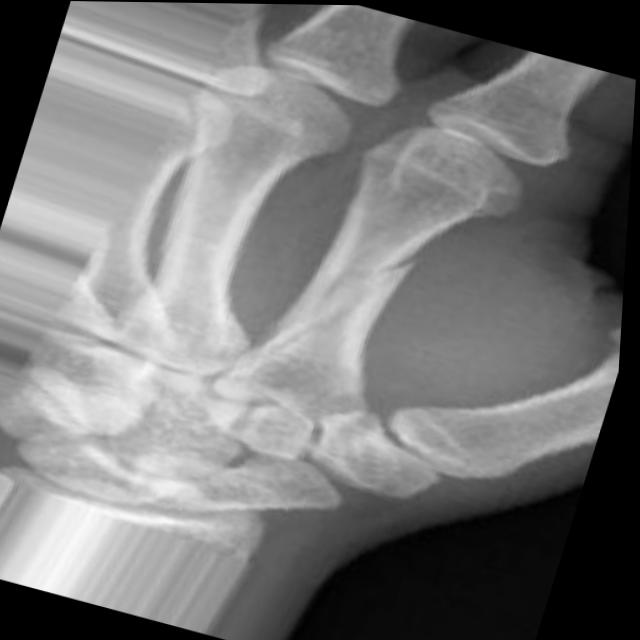fracture: (251, 211, 446, 381)
